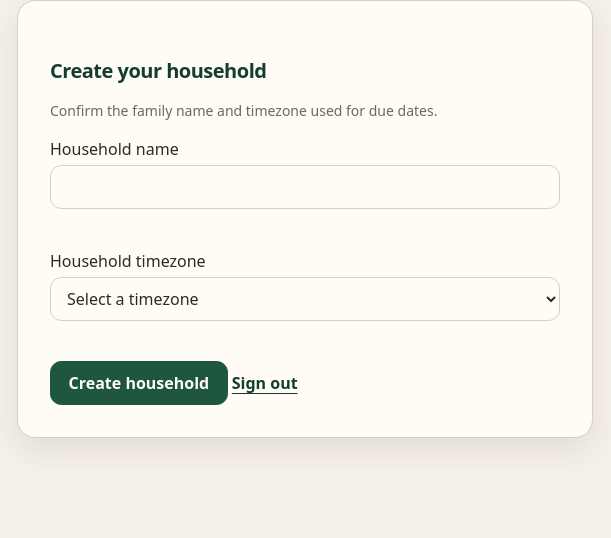
ProductionBootstrap › validates household name with focus, then requires profile setup after creation
Submit the form, box [50,57,560,405]
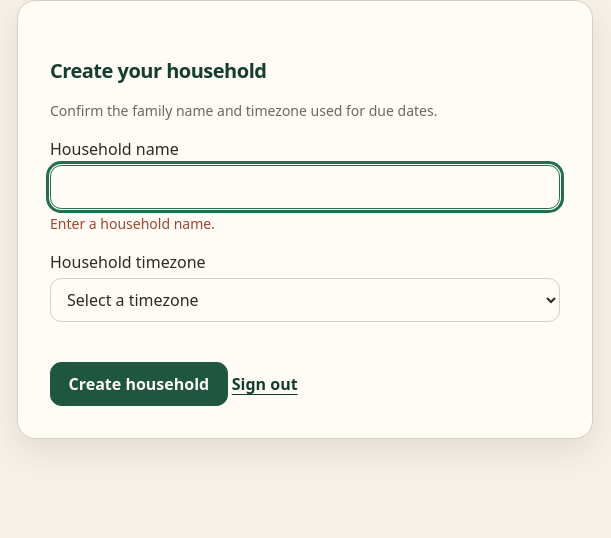
Type "River House" into the field labelled "Household name Enter a household name." at {"x": 305, "y": 187}, box [50,165,560,209]
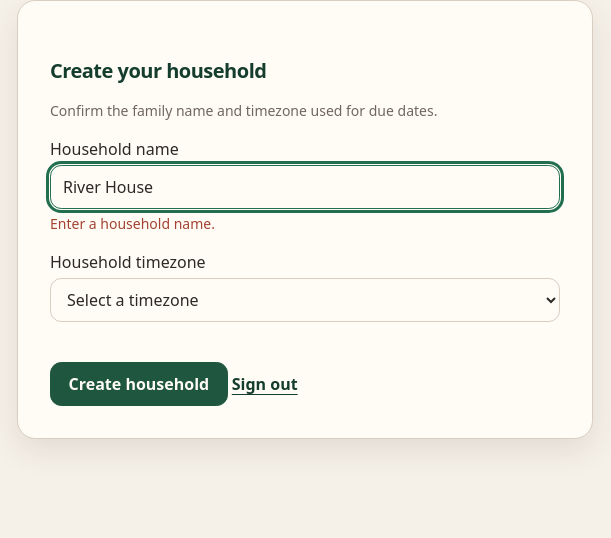
Select "America/Chicago" in the dropdown labelled "Household timezone" at {"x": 305, "y": 300}, box [50,278,560,322]
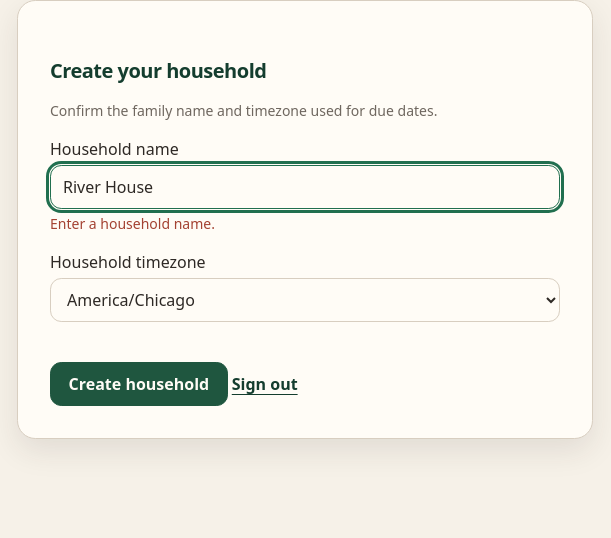
Submit the form, box [50,57,560,406]
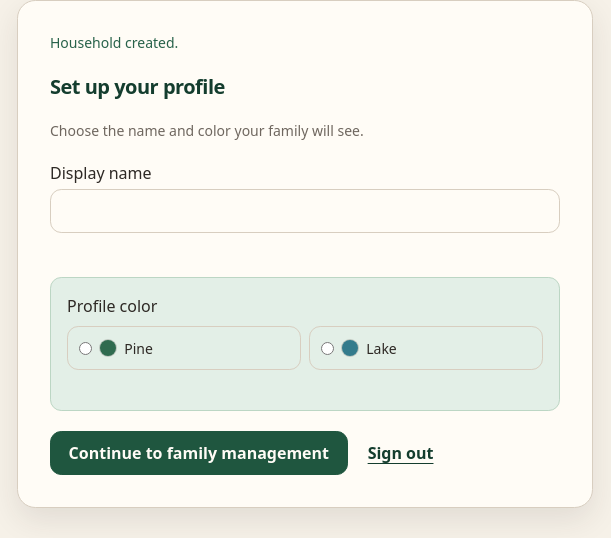
Check: the heading "Set up your profile" is shown, box [50,73,225,100]
